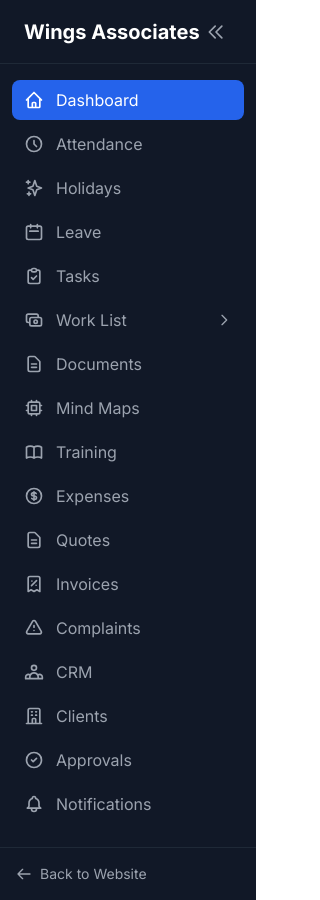
Test: AppSidebar › Work visibility for payments:read:own › shows Work for a user with only payments:read:own (no payments:read)
Click the button "Work List" at {"x": 128, "y": 320}, box x1=12 y1=300 x2=244 y2=340
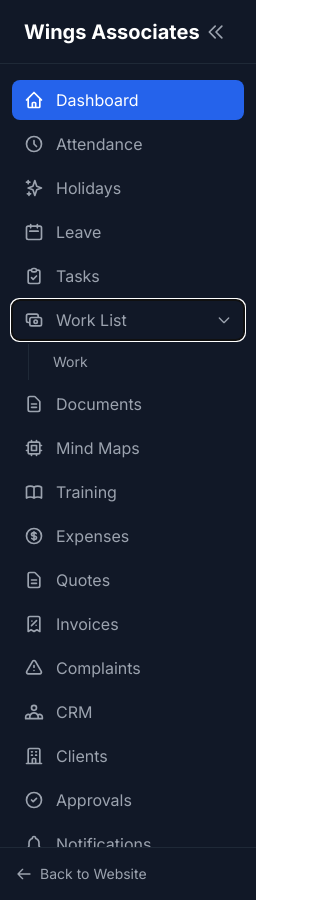
Expected: the link "Work" is shown, x1=53 y1=353 x2=88 y2=370
